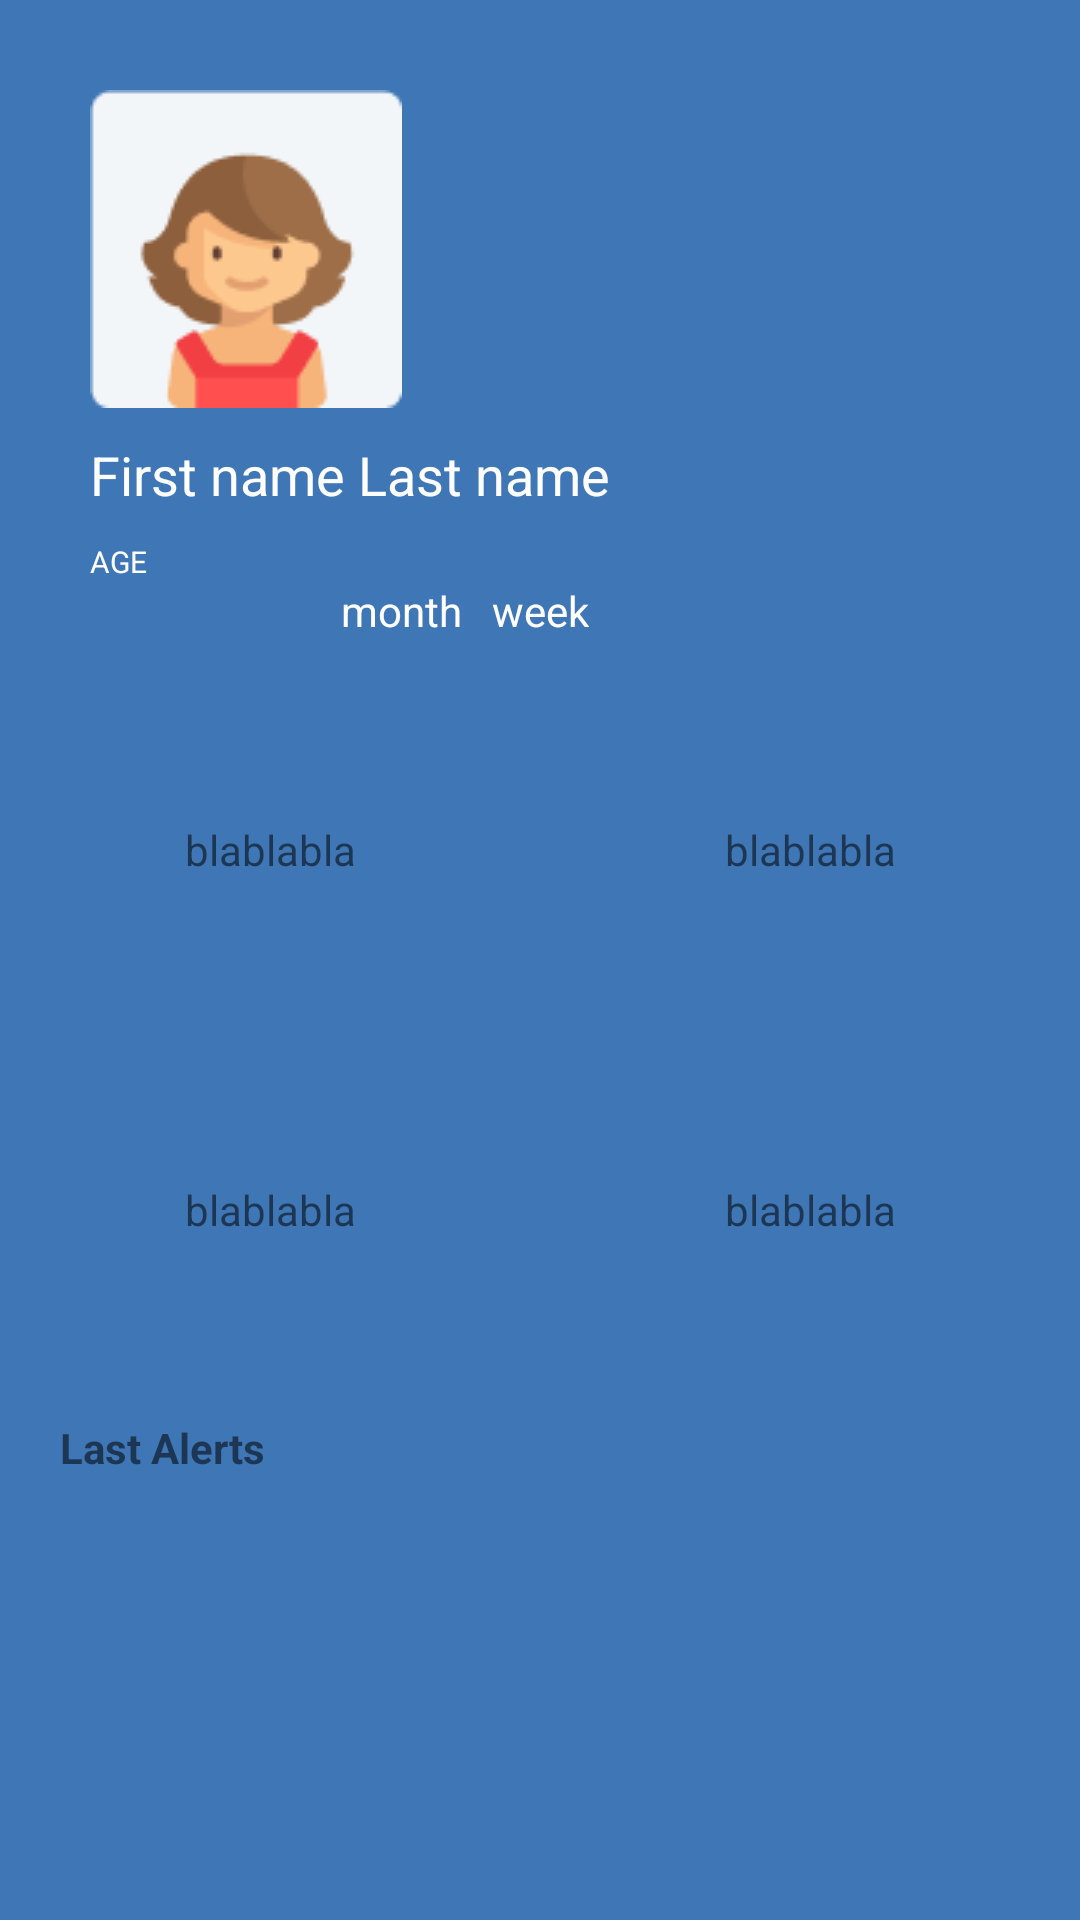

Icon bounding boxes for this 1080×1920 phone screenshot, format (x1, y1, x2, y2):
biggirl: (90, 90, 402, 408)
